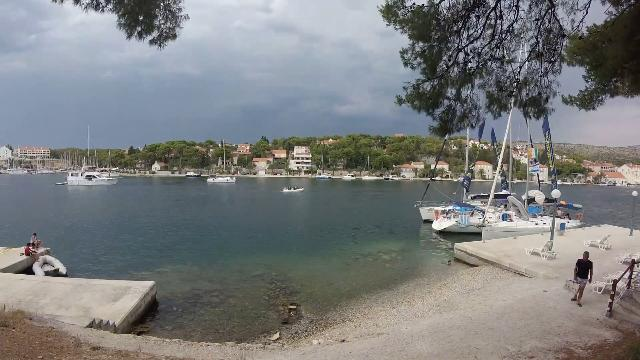Sailboat: (204, 172, 240, 185)
ferry: (61, 165, 126, 189)
speedboat: (280, 182, 306, 196)
